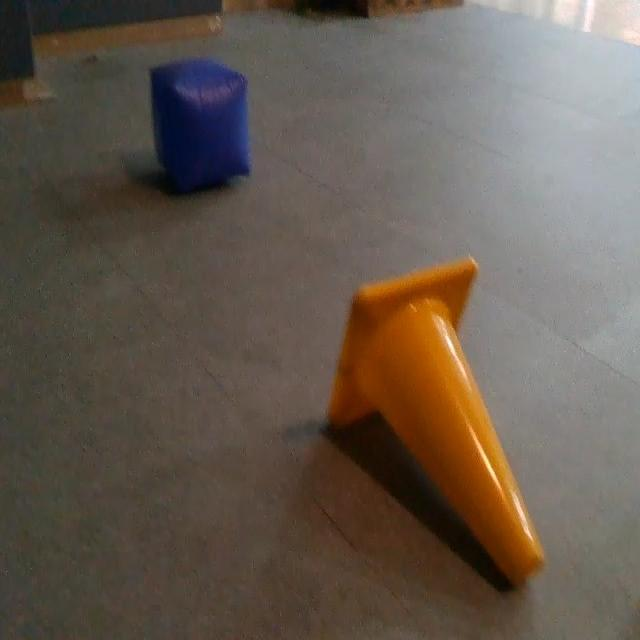cone: (326, 255, 546, 588)
cube: (147, 60, 254, 193)
